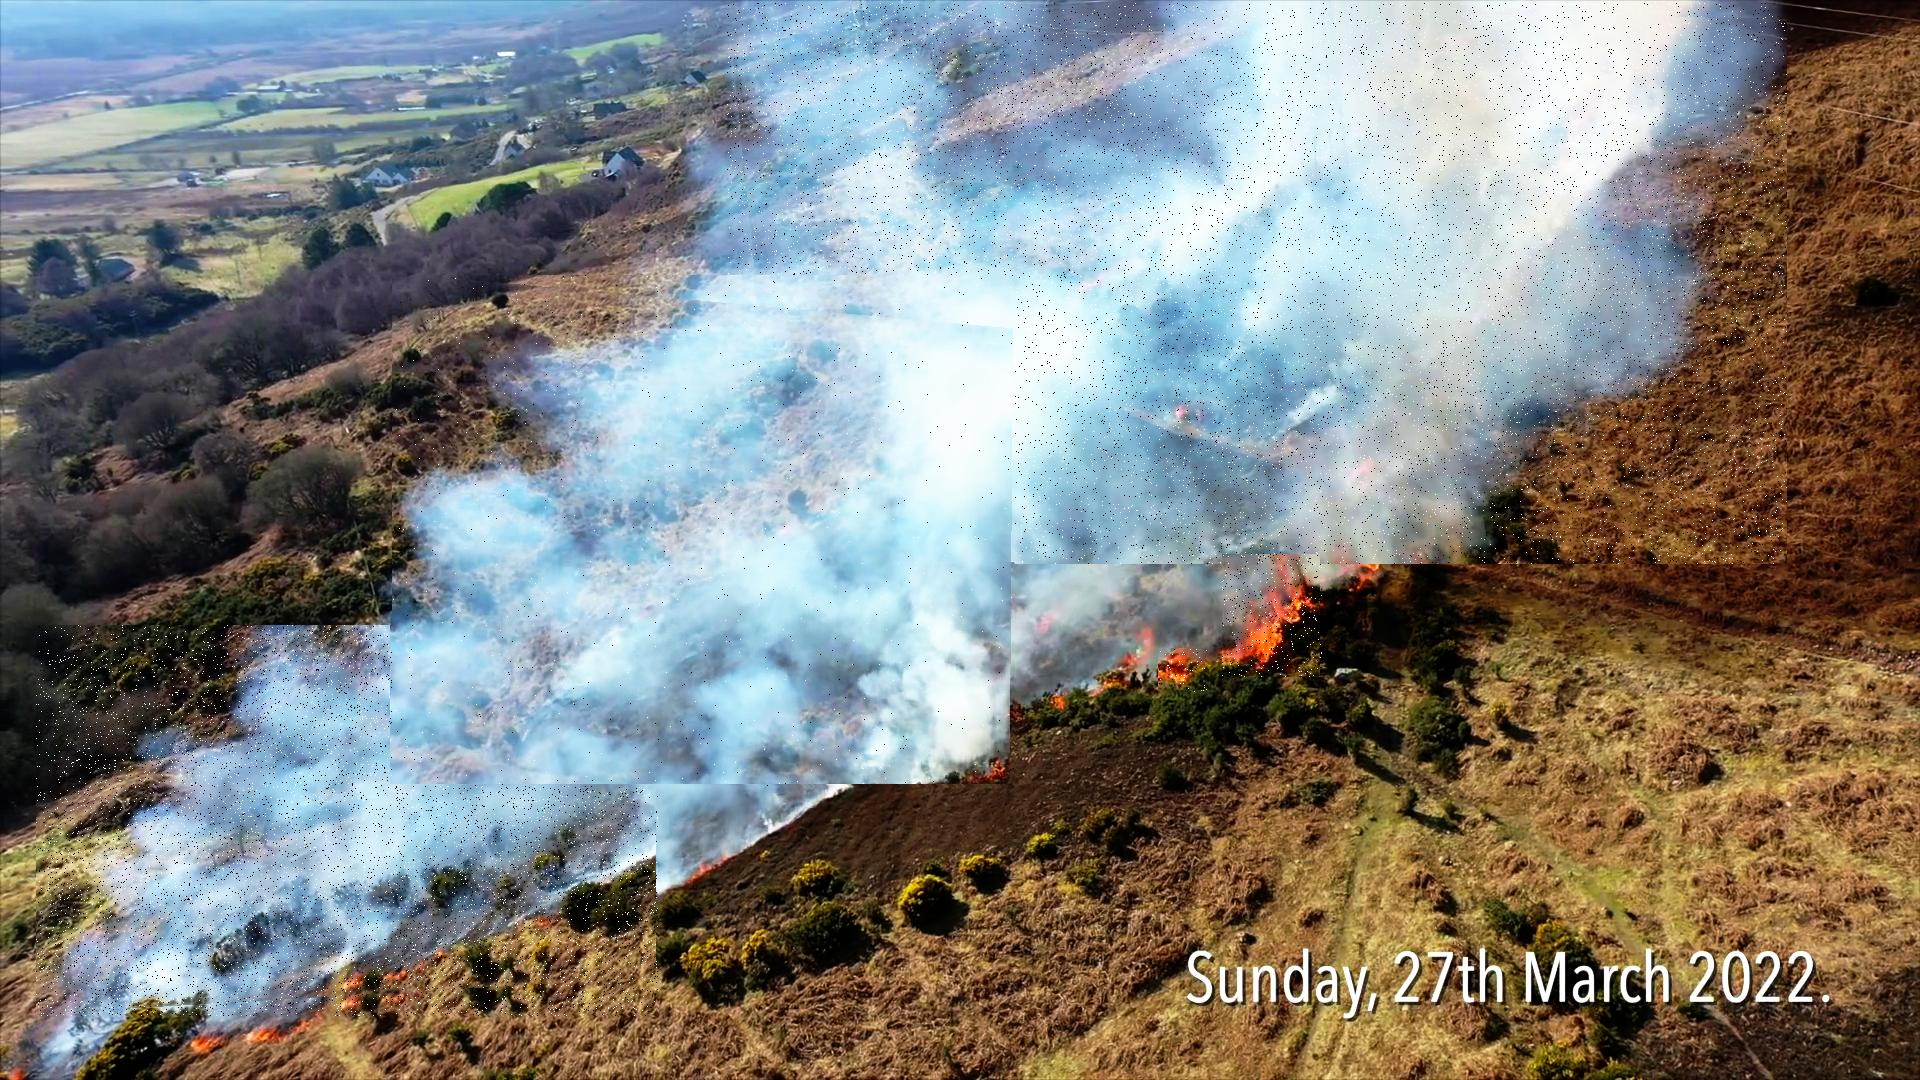fire: (1222, 554, 1323, 678), (1159, 649, 1208, 692)
smoke: (727, 3, 1787, 564), (393, 276, 1015, 787), (37, 626, 659, 1017)
